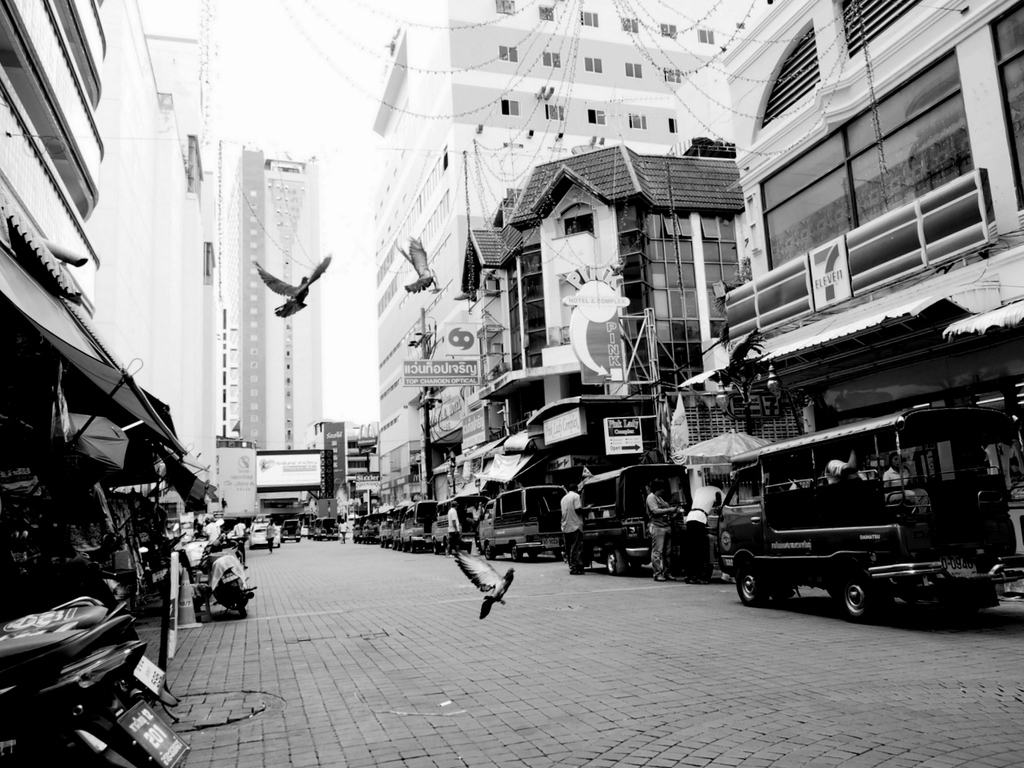cars: (246, 521, 279, 560)
